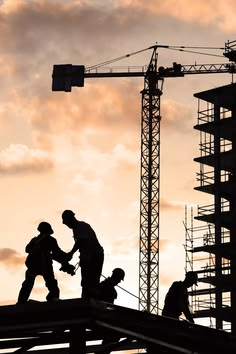crane: (39, 32, 214, 332)
person: (12, 213, 71, 300), (60, 202, 102, 300), (163, 258, 197, 324), (105, 257, 128, 307)
